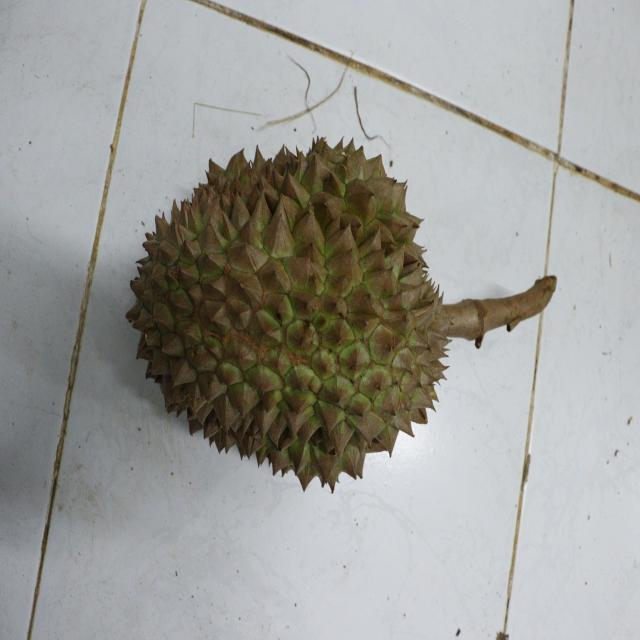mature: (118, 137, 452, 496)
